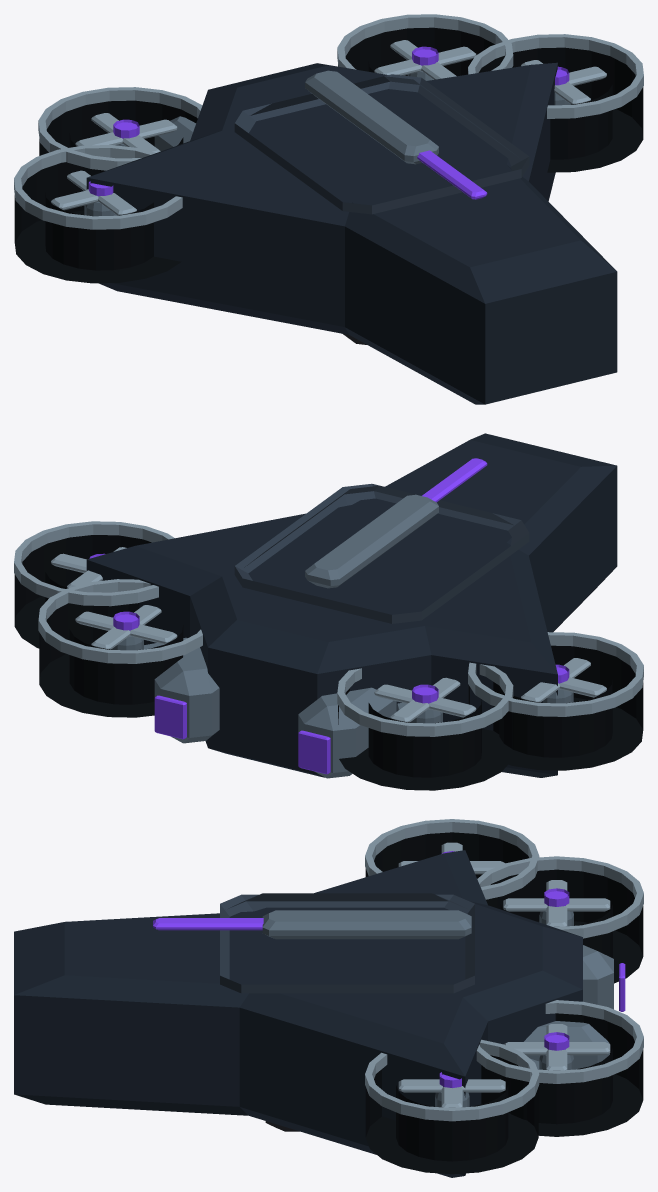
Rendered from SF_InterceptorDrone.obj.
3 renders of one model, top to bottom at view 1: azimuth 30°, elevation 25°; view 2: azimuth 150°, elevation 25°; view 3: azimuth 270°, elevation 25°, orthographic.
Parts seen in each view (by area): view 1: Chassis, Duct0, Duct1, ArmourTop, Spine, DuctAccent0, DuctAccent1, DuctAccent2, Duct3, Duct2, DuctAccent3, Rotor3 (+5 smaller); view 2: Chassis, Duct0, Duct3, Duct2, RearJetHousing, ArmourTop, Duct1, Spine, DuctAccent1, DuctAccent0, DuctAccent3, DuctAccent2 (+6 smaller); view 3: Chassis, Duct1, Duct3, ArmourTop, Spine, Duct2, DuctAccent3, DuctAccent1, DuctAccent0, Duct0, DuctAccent2, RearJetHousing (+5 smaller).
Part boxes in pixels (left/top/right/bottom): Chassis: left=86, top=62, right=617, bottom=404; Duct0: left=14, top=162, right=181, bottom=283; Duct1: left=482, top=47, right=643, bottom=172; ArmourTop: left=234, top=74, right=529, bottom=214; Spine: left=305, top=70, right=438, bottom=164; DuctAccent0: left=14, top=145, right=182, bottom=229; DuctAccent1: left=468, top=34, right=643, bottom=118; DuctAccent2: left=38, top=87, right=202, bottom=170; Duct3: left=338, top=27, right=512, bottom=76; Duct2: left=39, top=100, right=197, bottom=172; DuctAccent3: left=337, top=14, right=513, bottom=70; Rotor3: left=374, top=40, right=476, bottom=80; Chassis: left=86, top=433, right=617, bottom=777; Duct0: left=468, top=645, right=643, bottom=770; Duct3: left=39, top=603, right=183, bottom=717; Duct2: left=338, top=682, right=512, bottom=790; RearJetHousing: left=154, top=647, right=396, bottom=778; ArmourTop: left=234, top=483, right=529, bottom=623; Duct1: left=14, top=535, right=151, bottom=648; Spine: left=305, top=494, right=438, bottom=588; DuctAccent1: left=14, top=521, right=174, bottom=606; DuctAccent0: left=468, top=632, right=643, bottom=716; DuctAccent3: left=38, top=579, right=202, bottom=663; DuctAccent2: left=337, top=664, right=513, bottom=736; Chassis: left=14, top=850, right=582, bottom=1177; Duct1: left=365, top=1055, right=538, bottom=1174; Duct3: left=504, top=1013, right=643, bottom=1136; ArmourTop: left=220, top=893, right=474, bottom=993; Spine: left=262, top=910, right=471, bottom=939; Duct2: left=500, top=869, right=643, bottom=983; DuctAccent3: left=476, top=1000, right=643, bottom=1083; DuctAccent1: left=365, top=1039, right=539, bottom=1121; DuctAccent0: left=365, top=819, right=539, bottom=899; Duct0: left=365, top=832, right=537, bottom=921; DuctAccent2: left=477, top=856, right=643, bottom=938; RearJetHousing: left=524, top=945, right=613, bottom=1069.
Size of the model in its own units: 2.11 by 0.635 by 1.93.
